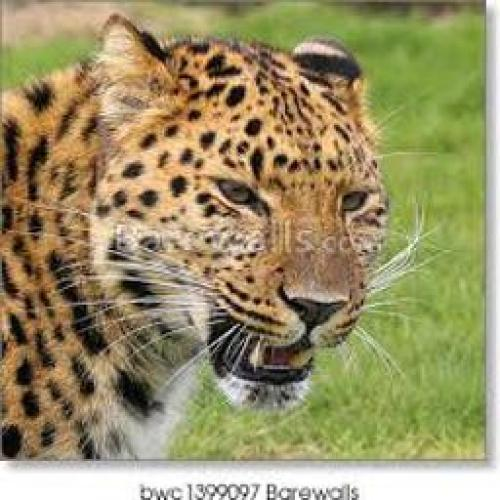amur_leopard-endangered: (0, 13, 389, 451)
